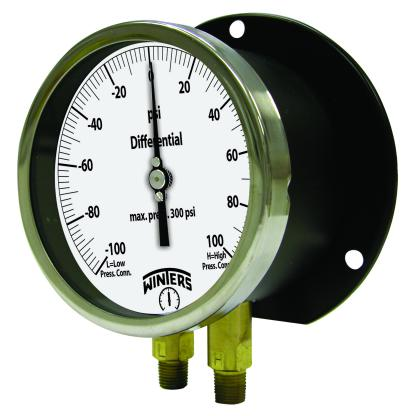needle: (150, 60, 161, 157)
